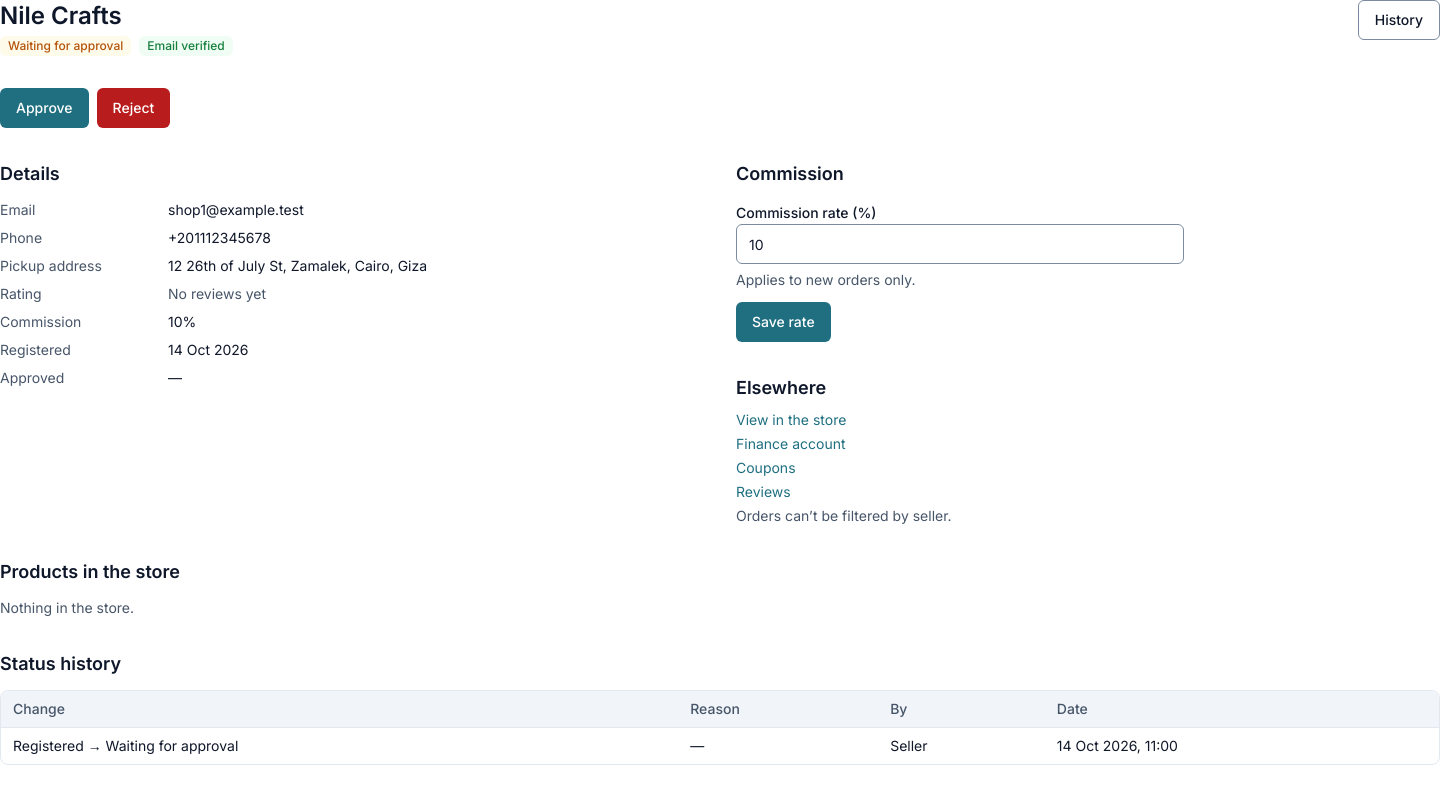
Test: seller page (spec 03 AD-05) › Approve asks first; the answer replaces the seller
Click the button "Approve": (44,108) top-left (0, 88), bottom-right (89, 128)
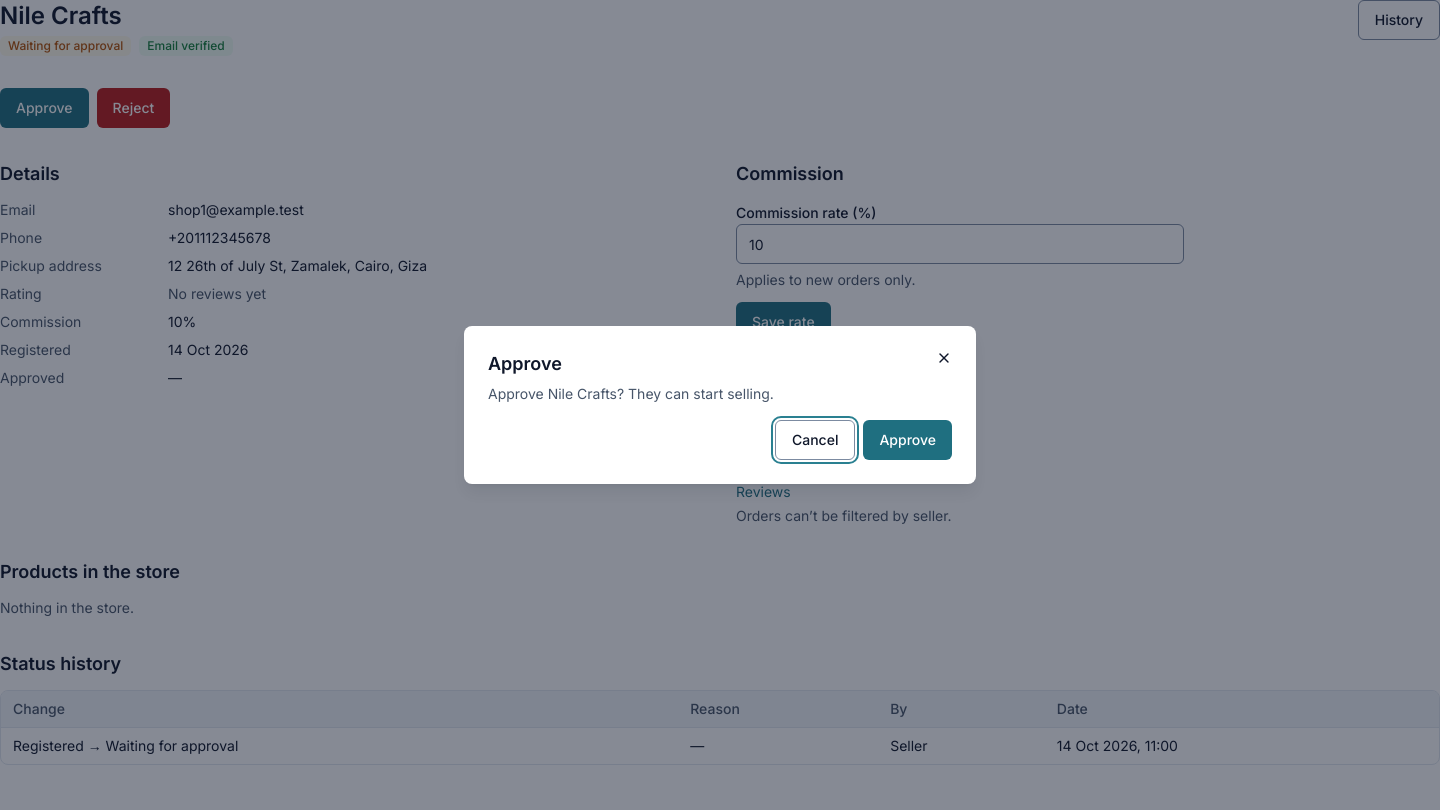
Check: the text "Approve Nile Crafts? They can start selling." is shown, box top-left (488, 385), bottom-right (774, 402)
Click the button "Approve": (908,440) top-left (863, 420), bottom-right (952, 460)
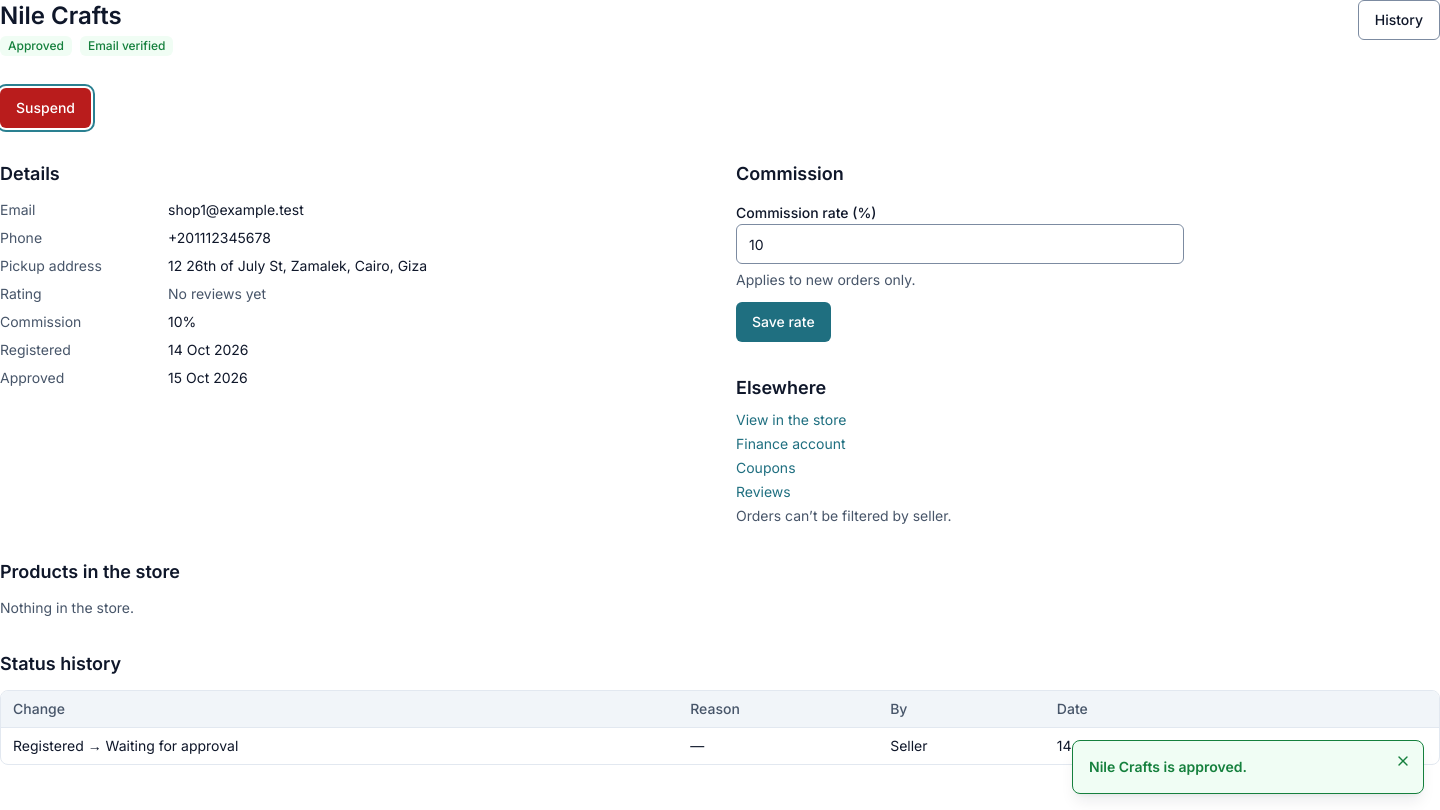
Check: the text "Nile Crafts is approved." is shown, box top-left (1089, 758), bottom-right (1247, 775)
Check: the button "Suspend" is shown, box top-left (0, 88), bottom-right (91, 128)
